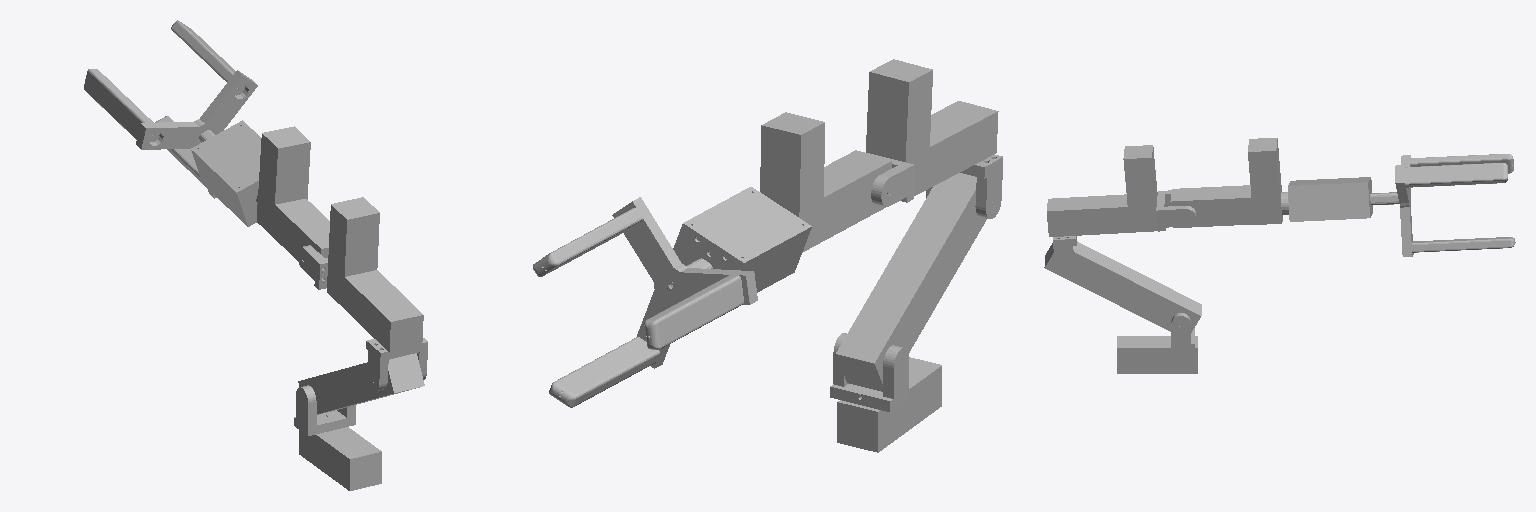
URDF robot description (7DOFArm.SLDASM):
<?xml version="1.0" encoding="utf-8"?>

<robot
  name="7DOFArm.SLDASM">
  <link
    name="base_link">
    <inertial>
      <origin
        xyz="-8.34818179536046E-06 0.00557610441589056 0.0211254794790421"
        rpy="0 0 0" />
      <mass
        value="0.195948164313462" />
      <inertia
        ixx="0.000268946195921621"
        ixy="1.37361739472986E-08"
        ixz="6.7375337150921E-09"
        iyy="5.4818408490663E-05"
        iyz="-5.13728177875137E-06"
        izz="0.00028132542818711" />
    </inertial>
    <visual>
      <origin
        xyz="0 0 0"
        rpy="0 0 0" />
      <geometry>
        <mesh
          filename="package://7DOFArm.SLDASM/meshes/base_link.STL" />
      </geometry>
      <material
        name="">
        <color
          rgba="0.752941176470588 0.752941176470588 0.752941176470588 1" />
      </material>
    </visual>
    <collision>
      <origin
        xyz="0 0 0"
        rpy="0 0 0" />
      <geometry>
        <mesh
          filename="package://7DOFArm.SLDASM/meshes/base_link.STL" />
      </geometry>
    </collision>
  </link>
  <link
    name="Link2">
    <inertial>
      <origin
        xyz="4.80530943714782E-05 -0.00152789147324323 0.0199929397826317"
        rpy="0 0 0" />
      <mass
        value="0.055389475138638" />
      <inertia
        ixx="1.01366009285935E-05"
        ixy="1.55656523407097E-10"
        ixz="-8.86193755831385E-10"
        iyy="1.47698235348992E-05"
        iyz="2.02524178578314E-08"
        izz="1.46211245395671E-05" />
    </inertial>
    <visual>
      <origin
        xyz="0 0 0"
        rpy="0 0 0" />
      <geometry>
        <mesh
          filename="package://7DOFArm.SLDASM/meshes/Link2.STL" />
      </geometry>
      <material
        name="">
        <color
          rgba="0.752941176470588 0.752941176470588 0.752941176470588 1" />
      </material>
    </visual>
    <collision>
      <origin
        xyz="0 0 0"
        rpy="0 0 0" />
      <geometry>
        <mesh
          filename="package://7DOFArm.SLDASM/meshes/Link2.STL" />
      </geometry>
    </collision>
  </link>
  <joint
    name="Joint0"
    type="continuous">
    <origin
      xyz="0 0.0395 0.044"
      rpy="0 0 -0.0063255066818594" />
    <parent
      link="base_link" />
    <child
      link="Link2" />
    <axis
      xyz="0 0 1" />
  </joint>
  <link
    name="Link3">
    <inertial>
      <origin
        xyz="1.20829453213733E-14 8.37104158513124E-06 0.101999999999929"
        rpy="0 0 0" />
      <mass
        value="0.390826093219989" />
      <inertia
        ixx="0.000559492053280385"
        ixy="5.98929161948754E-16"
        ixz="1.13812165974477E-05"
        iyy="0.000534406308901428"
        iyz="-1.76981104736603E-15"
        izz="0.000109181488336245" />
    </inertial>
    <visual>
      <origin
        xyz="0 0 0"
        rpy="0 0 0" />
      <geometry>
        <mesh
          filename="package://7DOFArm.SLDASM/meshes/Link3.STL" />
      </geometry>
      <material
        name="">
        <color
          rgba="0.752941176470588 0.752941176470588 0.752941176470588 1" />
      </material>
    </visual>
    <collision>
      <origin
        xyz="0 0 0"
        rpy="0 0 0" />
      <geometry>
        <mesh
          filename="package://7DOFArm.SLDASM/meshes/Link3.STL" />
      </geometry>
    </collision>
  </link>
  <joint
    name="Joint1"
    type="continuous">
    <origin
      xyz="0 -0.0030000000000001 0.0450000000000002"
      rpy="1.06447174148775 0 0" />
    <parent
      link="Link2" />
    <child
      link="Link3" />
    <axis
      xyz="1 0 0" />
  </joint>
  <link
    name="Link4">
    <inertial>
      <origin
        xyz="-4.80530943716832E-05 0.00147210852675678 0.0250070602173683"
        rpy="0 0 0" />
      <mass
        value="0.055389475138638" />
      <inertia
        ixx="1.01366009285935E-05"
        ixy="-1.55656523405905E-10"
        ixz="-8.86193755831224E-10"
        iyy="1.47698235348991E-05"
        iyz="-2.02524178578319E-08"
        izz="1.46211245395671E-05" />
    </inertial>
    <visual>
      <origin
        xyz="0 0 0"
        rpy="0 0 0" />
      <geometry>
        <mesh
          filename="package://7DOFArm.SLDASM/meshes/Link4.STL" />
      </geometry>
      <material
        name="">
        <color
          rgba="0.752941176470588 0.752941176470588 0.752941176470588 1" />
      </material>
    </visual>
    <collision>
      <origin
        xyz="0 0 0"
        rpy="0 0 0" />
      <geometry>
        <mesh
          filename="package://7DOFArm.SLDASM/meshes/Link4.STL" />
      </geometry>
    </collision>
  </link>
  <joint
    name="Joint2"
    type="continuous">
    <origin
      xyz="0 0 0.204"
      rpy="-0.982875993996659 0 0" />
    <parent
      link="Link3" />
    <child
      link="Link4" />
    <axis
      xyz="-1 0 0" />
  </joint>
  <link
    name="Link5">
    <inertial>
      <origin
        xyz="-8.3481816847775E-06 0.0785246875304838 0.050965409786628"
        rpy="0 0 0" />
      <mass
        value="0.391896328746283" />
      <inertia
        ixx="0.000537892391856797"
        ixy="-6.9986418036451E-09"
        ixz="-2.04737067713958E-08"
        iyy="0.00033614383668443"
        iyz="-4.93463155737849E-16"
        izz="0.000336143836684597" />
    </inertial>
    <visual>
      <origin
        xyz="0 0 0"
        rpy="0 0 0" />
      <geometry>
        <mesh
          filename="package://7DOFArm.SLDASM/meshes/Link5.STL" />
      </geometry>
      <material
        name="">
        <color
          rgba="0.752941176470588 0.752941176470588 0.752941176470588 1" />
      </material>
    </visual>
    <collision>
      <origin
        xyz="0 0 0"
        rpy="0 0 0" />
      <geometry>
        <mesh
          filename="package://7DOFArm.SLDASM/meshes/Link5.STL" />
      </geometry>
    </collision>
  </link>
  <joint
    name="Joint3"
    type="continuous">
    <origin
      xyz="0 0.00300000000000002 0.0339337982667513"
      rpy="0 0 -0.0373408822518601" />
    <parent
      link="Link4" />
    <child
      link="Link5" />
    <axis
      xyz="0 0 -1" />
  </joint>
  <link
    name="Link6">
    <inertial>
      <origin
        xyz="4.80530943693545E-05 0.0259429985826935 0.00152789147324323"
        rpy="0 0 0" />
      <mass
        value="0.0553894751386379" />
      <inertia
        ixx="1.01366009285935E-05"
        ixy="-8.86193755830644E-10"
        ixz="-1.55656523403457E-10"
        iyy="1.46211245395671E-05"
        iyz="-2.02524178578316E-08"
        izz="1.47698235348991E-05" />
    </inertial>
    <visual>
      <origin
        xyz="0 0 0"
        rpy="0 0 0" />
      <geometry>
        <mesh
          filename="package://7DOFArm.SLDASM/meshes/Link6.STL" />
      </geometry>
      <material
        name="">
        <color
          rgba="0.752941176470588 0.752941176470588 0.752941176470588 1" />
      </material>
    </visual>
    <collision>
      <origin
        xyz="0 0 0"
        rpy="0 0 0" />
      <geometry>
        <mesh
          filename="package://7DOFArm.SLDASM/meshes/Link6.STL" />
      </geometry>
    </collision>
  </link>
  <joint
    name="Joint4"
    type="continuous">
    <origin
      xyz="0 0.140049941199938 0.0340662017332484"
      rpy="0 0.0178678459046033 0" />
    <parent
      link="Link5" />
    <child
      link="Link6" />
    <axis
      xyz="0 1 0" />
  </joint>
  <link
    name="Link7">
    <inertial>
      <origin
        xyz="0.000917901933196848 0.0786320562659005 0.0169893200790058"
        rpy="0 0 0" />
      <mass
        value="0.391361210934714" />
      <inertia
        ixx="0.000548692222565865"
        ixy="-5.68387076435446E-06"
        ixz="-6.99864073104178E-09"
        iyy="0.000335916172357848"
        iyz="5.15101791261378E-06"
        izz="0.000322021562938926" />
    </inertial>
    <visual>
      <origin
        xyz="0 0 0"
        rpy="0 0 0" />
      <geometry>
        <mesh
          filename="package://7DOFArm.SLDASM/meshes/Link7.STL" />
      </geometry>
      <material
        name="">
        <color
          rgba="0.752941176470588 0.752941176470588 0.752941176470588 1" />
      </material>
    </visual>
    <collision>
      <origin
        xyz="0 0 0"
        rpy="0 0 0" />
      <geometry>
        <mesh
          filename="package://7DOFArm.SLDASM/meshes/Link7.STL" />
      </geometry>
    </collision>
  </link>
  <joint
    name="Joint5"
    type="continuous">
    <origin
      xyz="0 0.0509500588000616 0.00300000000000006"
      rpy="-0.00877434456653207 0 0" />
    <parent
      link="Link6" />
    <child
      link="Link7" />
    <axis
      xyz="-1 0 0" />
  </joint>
  <link
    name="EndEffector">
    <inertial>
      <origin
        xyz="-0.000652115884172889 0.16606767934612 0.00179570680438307"
        rpy="0 0 0" />
      <mass
        value="0.533035537217521" />
      <inertia
        ixx="0.000828026554879931"
        ixy="6.06699838054548E-07"
        ixz="-1.92693806277969E-05"
        iyy="0.000472118631073817"
        iyz="-1.69711560363912E-06"
        izz="0.000873966442795746" />
    </inertial>
    <visual>
      <origin
        xyz="0 0 0"
        rpy="0 0 0" />
      <geometry>
        <mesh
          filename="package://7DOFArm.SLDASM/meshes/EndEffector.STL" />
      </geometry>
      <material
        name="">
        <color
          rgba="0.752941176470588 0.752941176470588 0.752941176470588 1" />
      </material>
    </visual>
    <collision>
      <origin
        xyz="0 0 0"
        rpy="0 0 0" />
      <geometry>
        <mesh
          filename="package://7DOFArm.SLDASM/meshes/EndEffector.STL" />
      </geometry>
    </collision>
  </link>
  <joint
    name="Joint6"
    type="continuous">
    <origin
      xyz="0.000999999999997949 0.124829928909805 0"
      rpy="0 0 0" />
    <parent
      link="Link7" />
    <child
      link="EndEffector" />
    <axis
      xyz="0 -1 0" />
  </joint>
</robot>

--- Render facts (derived) ---
Views: 3 orthographic renders of the robot side by side, from view 1: azimuth 30°, elevation 25°; view 2: azimuth 150°, elevation 25°; view 3: azimuth 270°, elevation 25°.
Model 7DOFArm.SLDASM with 8 links and 7 joints (7 continuous), rooted at base_link, posed all joints at 0.
Visible links, largest first — view 1: EndEffector, Link5, Link7, base_link, Link3, Link2, Link4, Link6; view 2: EndEffector, Link3, Link5, Link7, base_link, Link2, Link4, Link6; view 3: EndEffector, Link5, Link7, Link3, base_link, Link6, Link2, Link4.
Link boxes in pixels (<box>): EndEffector: <box>84,20,260,226</box>; Link5: <box>327,197,423,352</box>; Link7: <box>257,126,329,260</box>; base_link: <box>299,415,381,490</box>; Link3: <box>298,353,424,414</box>; Link2: <box>294,385,355,435</box>; Link4: <box>366,338,427,390</box>; Link6: <box>298,245,327,289</box>; EndEffector: <box>533,187,811,407</box>; Link3: <box>836,173,995,391</box>; Link5: <box>866,59,998,195</box>; Link7: <box>760,112,891,252</box>; base_link: <box>837,357,941,452</box>; Link2: <box>830,333,908,412</box>; Link4: <box>926,154,1002,218</box>; Link6: <box>829,150,914,206</box>; EndEffector: <box>1281,154,1515,256</box>; Link5: <box>1047,145,1157,236</box>; Link7: <box>1170,138,1282,227</box>; Link3: <box>1044,241,1201,332</box>; base_link: <box>1117,336,1197,373</box>; Link6: <box>1156,190,1195,231</box>; Link2: <box>1171,313,1194,351</box>; Link4: <box>1053,236,1076,274</box>.
Size in the robot's own frame: 0.1635 by 0.7227 by 0.3873 metres.
Meshes: 8 distinct files referenced, 8 mesh visuals loaded (8 binary STL).